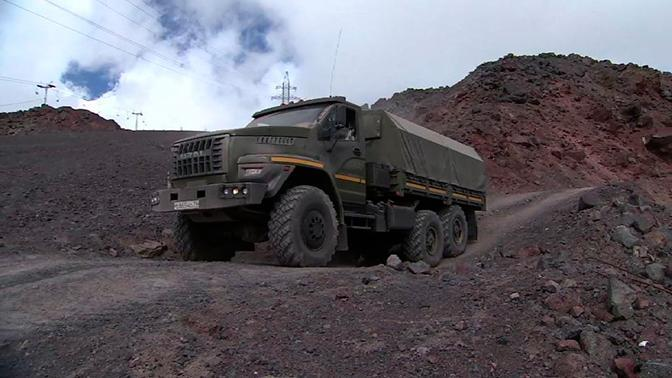truck: (150, 95, 486, 268)
